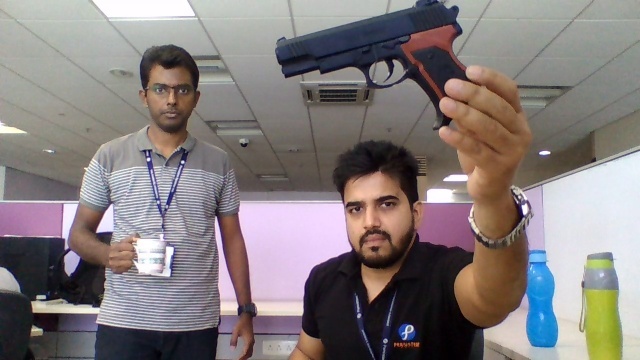gun: (275, 1, 464, 78)
